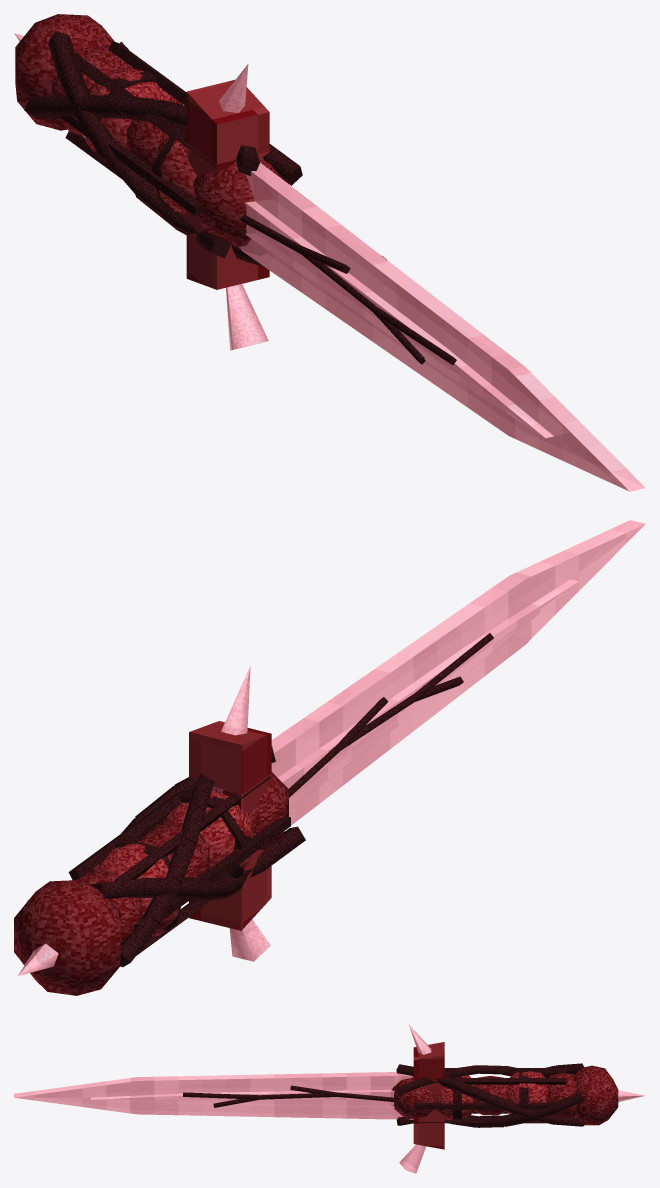
Rendered from faca_cristal_cultista.glb.
The picture shows the model from 3 angles, top to bottom: view 1: azimuth 30°, elevation 25°; view 2: azimuth 150°, elevation 25°; view 3: azimuth 270°, elevation 25°; orthographic projection. The views are drawn at different scales.
Parts seen in each view (by area): view 1: faca_facetada_cultista; view 2: faca_facetada_cultista; view 3: faca_facetada_cultista.
Part boxes in pixels (x1,y1,x2,y2): faca_facetada_cultista: (14, 14, 645, 491); faca_facetada_cultista: (14, 520, 645, 995); faca_facetada_cultista: (14, 1024, 645, 1173).
Size of the model in its own units: 0.0421 by 0.1054 by 0.411.
Materials: 4 (4 with a texture image).
